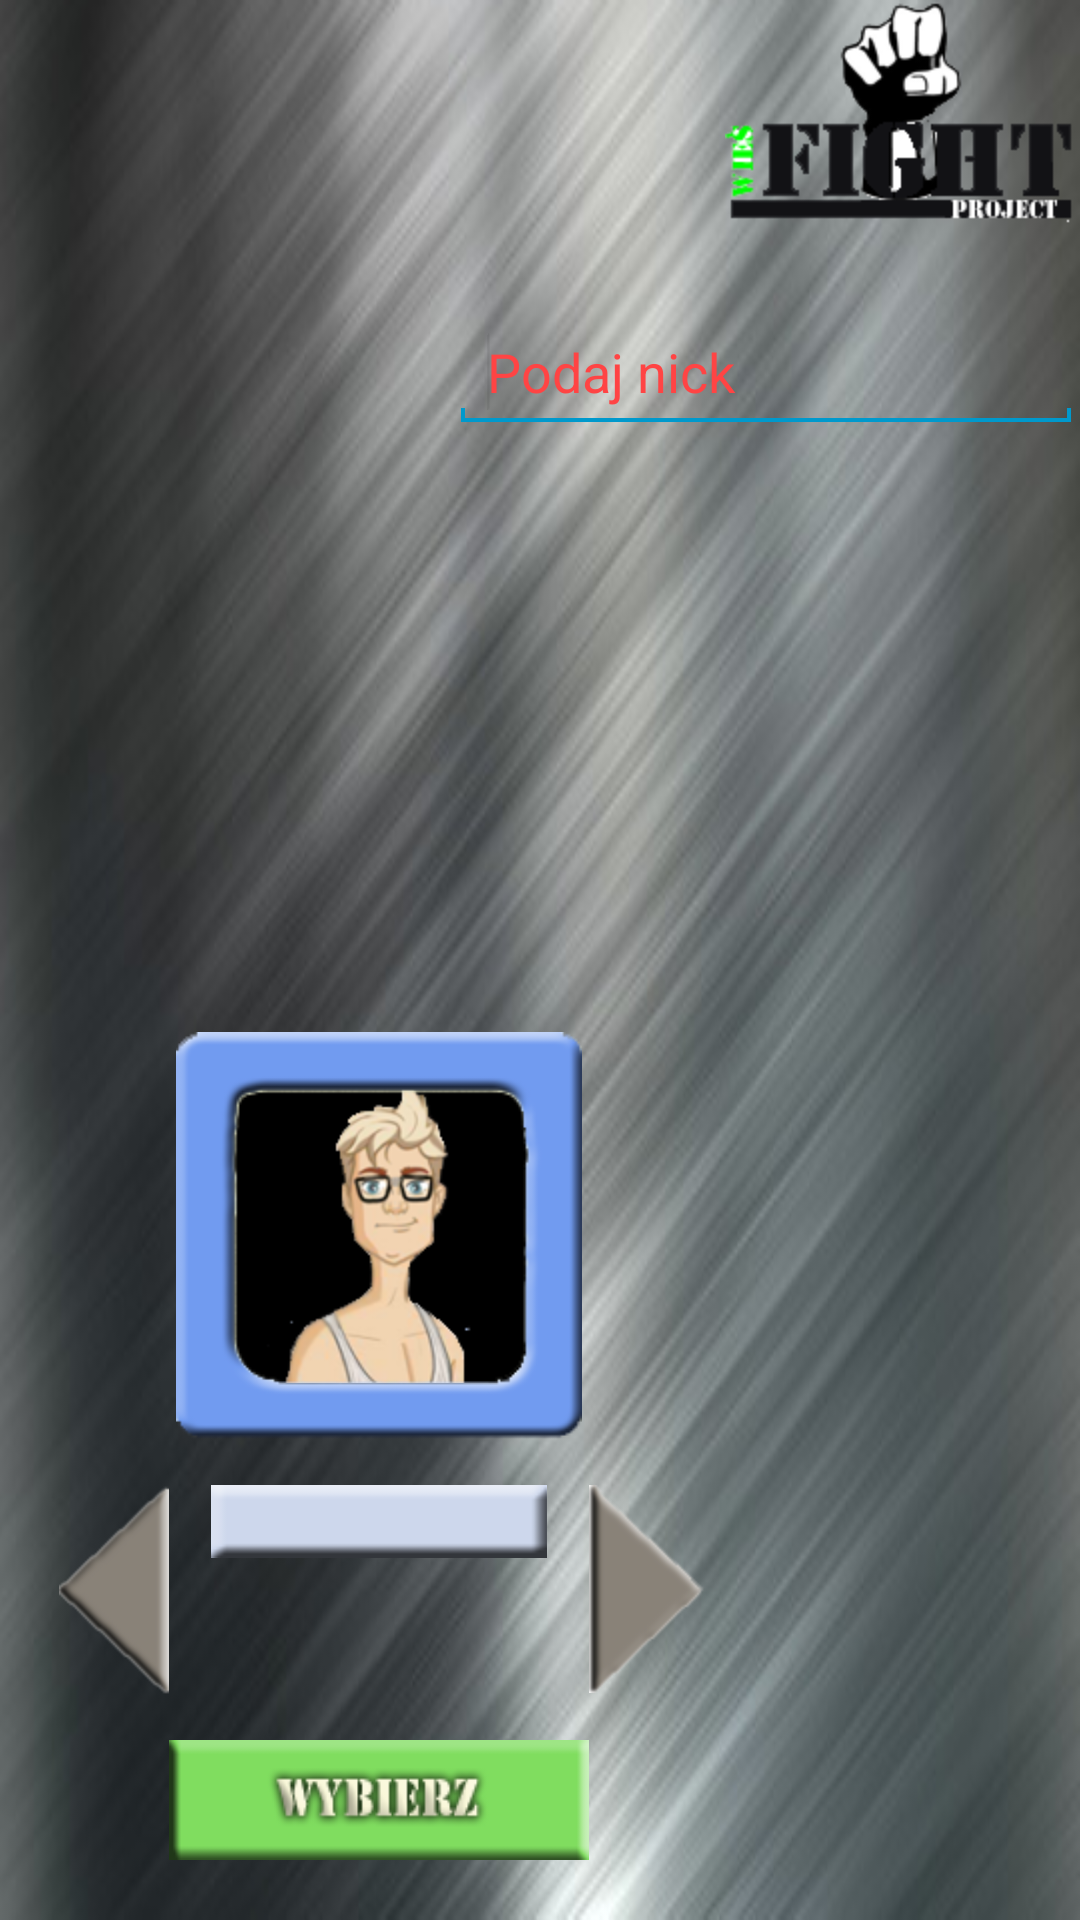

Where to tap for icons on this 1080 × 1920 app screen, as (x,y):
lewy: (114,1590)
prawy: (647,1589)
